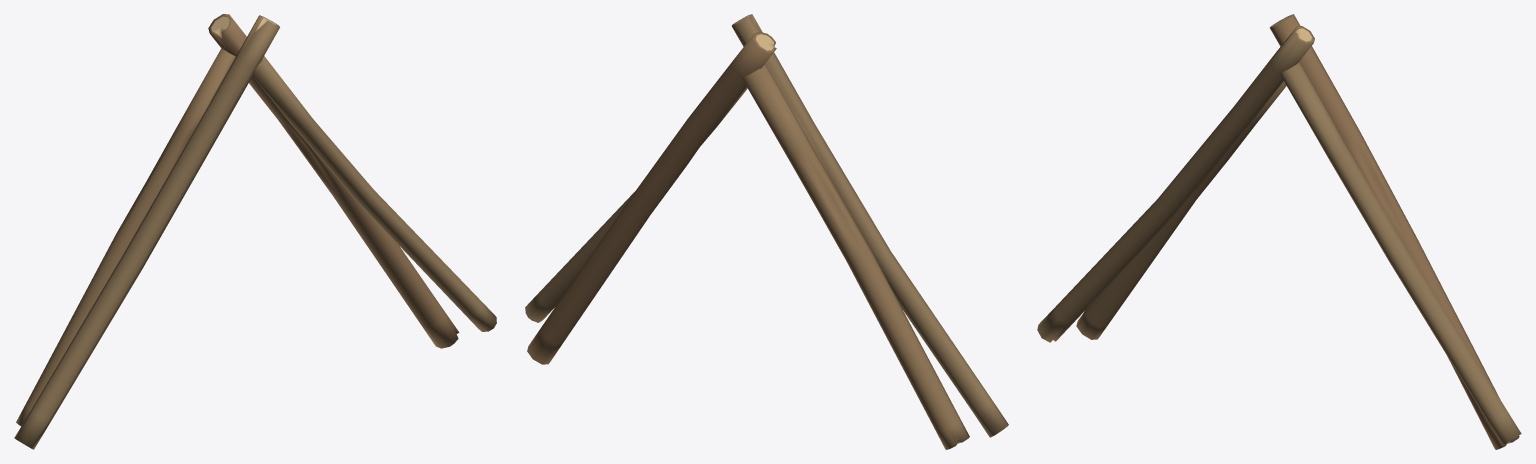
The model's file is rpgpp_av_roof_01_6x5x3_end_01.gltf.
The picture shows the model from 3 angles, left to right: view 1: azimuth 30°, elevation 25°; view 2: azimuth 150°, elevation 25°; view 3: azimuth 330°, elevation 25°; orthographic projection.
Parts seen in each view (by area): view 1: rpgpp_av_roof_01_6x5x3_end_01; view 2: rpgpp_av_roof_01_6x5x3_end_01; view 3: rpgpp_av_roof_01_6x5x3_end_01.
Boxes of the visible parts, x1,y1,x2,y2 form: rpgpp_av_roof_01_6x5x3_end_01: [14, 14, 496, 449]; rpgpp_av_roof_01_6x5x3_end_01: [525, 14, 1008, 449]; rpgpp_av_roof_01_6x5x3_end_01: [1037, 14, 1521, 449].
Size of the model in its own units: 0.0835 by 0.064 by 0.00973.
Materials: 1 (1 with a texture image).
